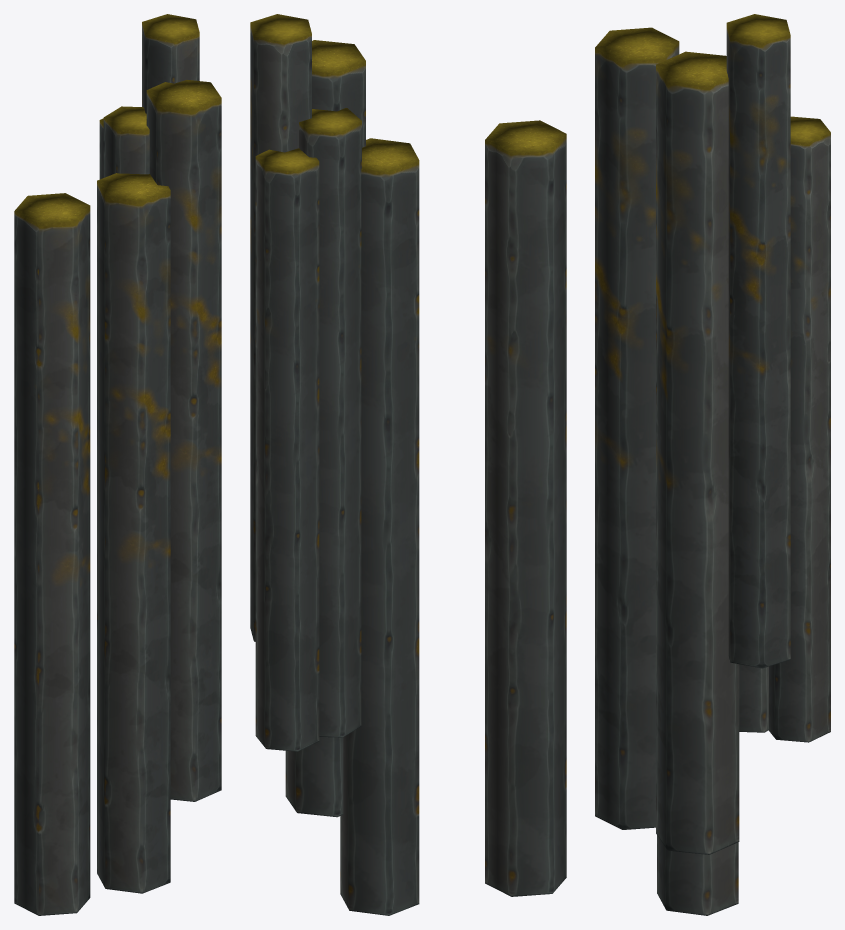
File: SM_Pillar_Merged_09.glb
The picture shows the model from 3 angles, left to right: view 1: azimuth 30°, elevation 25°; view 2: azimuth 150°, elevation 25°; view 3: azimuth 270°, elevation 25°; orthographic projection. The views are drawn at different scales.
Visible parts, largest first — view 1: SM_Pillar_Merged_09; view 2: SM_Pillar_Merged_09; view 3: SM_Pillar_Merged_09.
Boxes of the visible parts, x1,y1,x2,y2 form: SM_Pillar_Merged_09: (14,14,221,915); SM_Pillar_Merged_09: (250,14,566,915); SM_Pillar_Merged_09: (595,14,830,915).
Size of the model in its own units: 2.67 by 8.97 by 2.12.
Materials: 1 (1 with a texture image).
